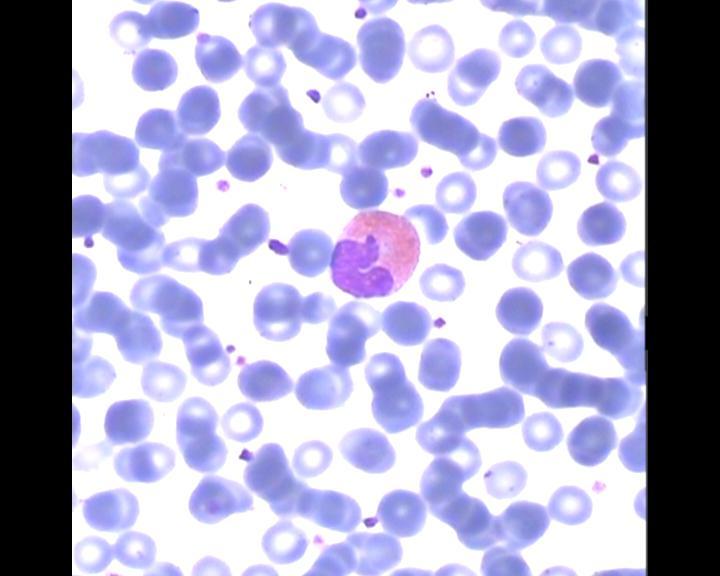eosi: (326, 206, 422, 299)
